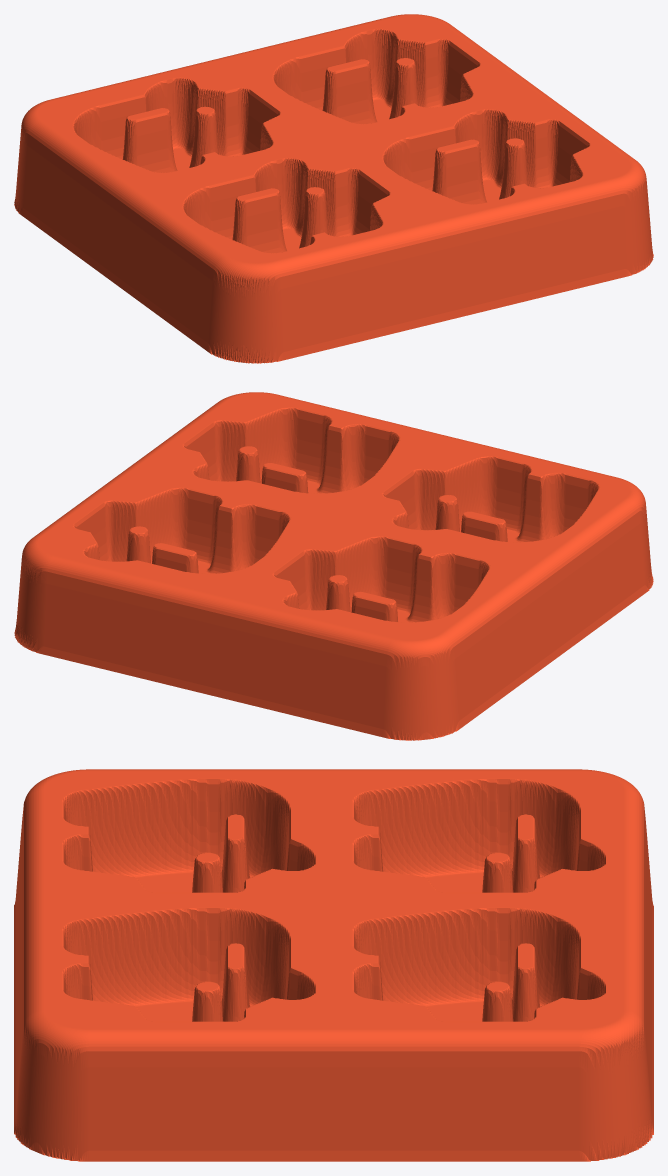
File: mold.glb
3 renders of one model, top to bottom at view 1: azimuth 30°, elevation 25°; view 2: azimuth 150°, elevation 25°; view 3: azimuth 270°, elevation 25°, orthographic. The views are drawn at different scales.
Parts seen in each view (by area): view 1: geometry_0; view 2: geometry_0; view 3: geometry_0.
Part boxes in pixels (x1=…): geometry_0: x1=14, y1=14, x2=653, y2=363; geometry_0: x1=14, y1=392, x2=653, y2=740; geometry_0: x1=14, y1=769, x2=653, y2=1161.
Bounding box in the file's own units: 0.0808 × 0.0159 × 0.0772.
